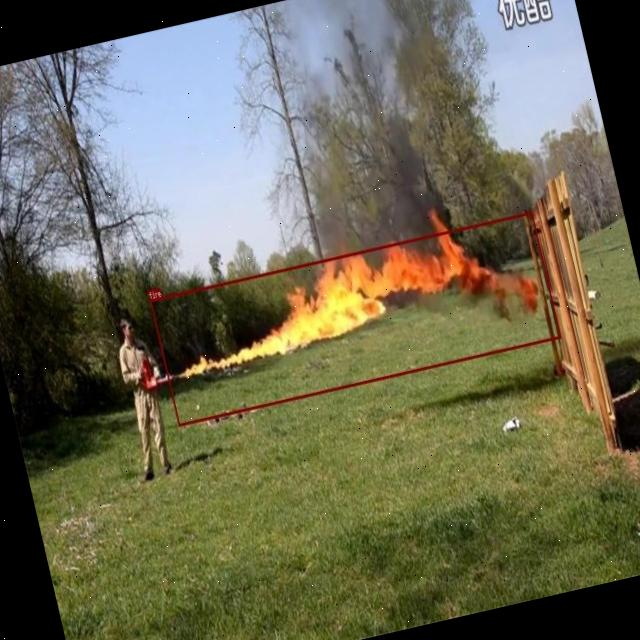fire: (150, 210, 561, 426)
